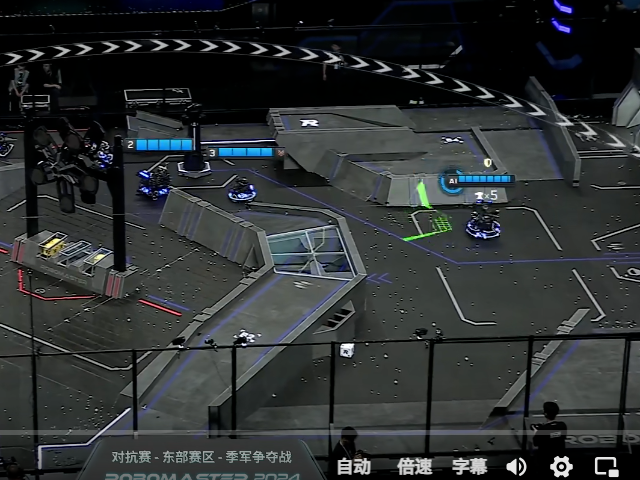rm: (130, 163, 174, 208), (463, 201, 506, 243), (228, 176, 259, 206)
